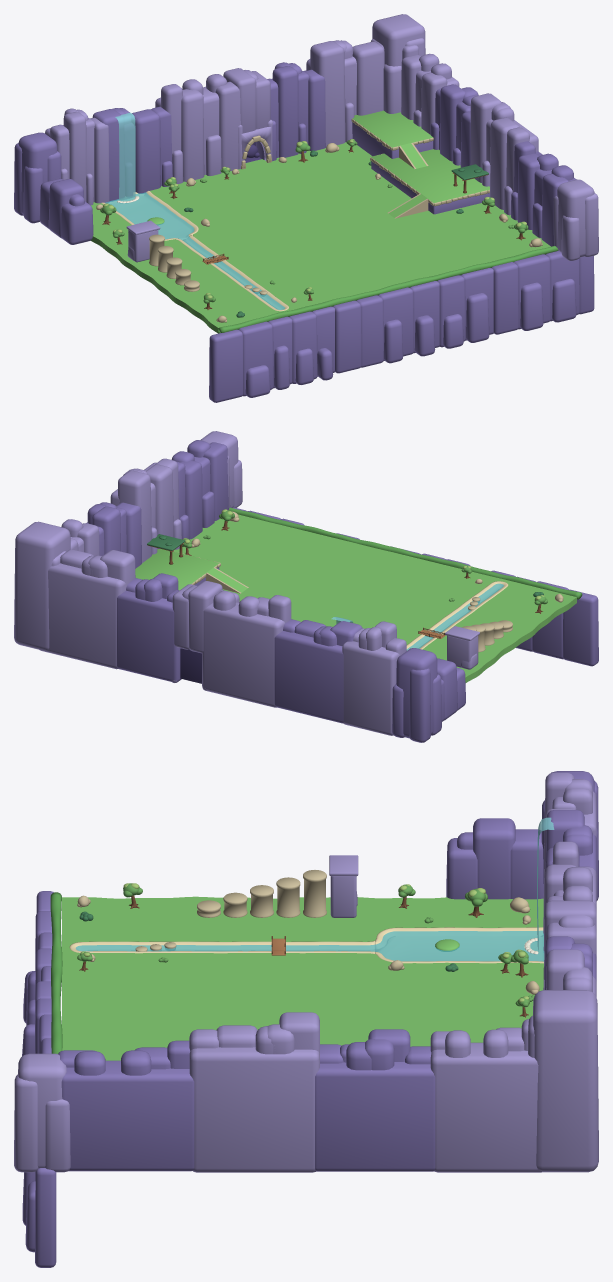
File: environment.fbx
3 renders of one model, top to bottom at view 1: azimuth 30°, elevation 25°; view 2: azimuth 150°, elevation 25°; view 3: azimuth 270°, elevation 25°, orthographic. The views are drawn at different scales.
Parts seen in each view (by area): view 1: South_Cliff_Face, Ground_05, Ground_02, Ground_06, Ground_04, Cliff_N3_StraightC, Cliff_N5_StraightB, Cliff_N2_StraightB, Cliff_N4_StraightA, Cliff_E3_StraightB, Ground_03, Cliff_N1_StraightA (+20 smaller); view 2: Ground_05, Cliff_N5_StraightB, Cliff_N3_StraightC, Ground_06, Ground_04, Cliff_N2_StraightB, Cliff_N4_StraightA, Cliff_N1_StraightA, Cliff_NE_CornerInside, Cliff_E4_StraightC, Cliff_NW_CornerOutside, Cliff_E3_StraightB (+13 smaller); view 3: Cliff_E3_StraightB, Cliff_E2_StraightA, Cliff_E4_StraightC, Ground_05, Ground_04, Cliff_E1_StraightC, Ground_02, Cliff_NE_CornerInside, Ground_01, Cliff_WestOutcrop, South_Cliff_Face, Cliff_SE_CornerOutside (+16 smaller).
Part boxes in pixels (box(x1,y1,x2,y2)): South_Cliff_Face: box(209, 251, 594, 402); Ground_05: box(245, 214, 440, 301); Ground_02: box(168, 157, 359, 242); Ground_06: box(360, 203, 550, 273); Ground_04: box(137, 242, 324, 333); Cliff_N3_StraightC: box(155, 74, 240, 183); Cliff_N5_StraightB: box(306, 40, 384, 147); Cliff_N2_StraightB: box(92, 106, 172, 201); Cliff_N4_StraightA: box(255, 62, 325, 160); Cliff_E3_StraightB: box(470, 93, 538, 215); Ground_03: box(285, 142, 411, 213); Cliff_N1_StraightA: box(45, 108, 109, 205); Ground_05: box(266, 540, 461, 628); Cliff_N5_StraightB: box(39, 549, 135, 669); Cliff_N3_StraightC: box(202, 590, 291, 707); Ground_06: box(174, 514, 343, 599); Ground_04: box(392, 571, 576, 665); Cliff_N2_StraightB: box(274, 619, 362, 723); Cliff_N4_StraightA: box(117, 573, 181, 681); Cliff_N1_StraightA: box(342, 621, 406, 735); Cliff_NE_CornerInside: box(14, 521, 70, 650); Cliff_E4_StraightC: box(171, 440, 228, 539); Cliff_NW_CornerOutside: box(392, 648, 441, 742); Cliff_E3_StraightB: box(110, 458, 181, 562); Cliff_E3_StraightB: box(189, 1012, 319, 1172); Cliff_E2_StraightA: box(315, 1029, 435, 1171); Cliff_E4_StraightC: box(58, 1040, 194, 1171); Ground_05: box(62, 977, 312, 1060); Ground_04: box(62, 896, 312, 976); Cliff_E1_StraightC: box(430, 1019, 541, 1172); Ground_02: box(312, 977, 543, 1046); Cliff_NE_CornerInside: box(528, 990, 598, 1172); Ground_01: box(312, 897, 543, 976); Cliff_WestOutcrop: box(446, 818, 543, 899); South_Cliff_Face: box(22, 891, 56, 1267); Cliff_SE_CornerOutside: box(14, 1053, 70, 1172).
Size of what is drawn, in the model's own units: 290 by 116 by 243.
